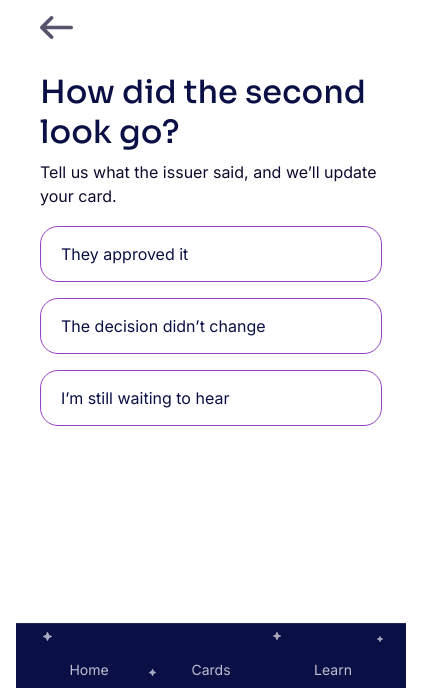
Test: SecondLook › explains a 409: the same card is already on Home, so this one can’t change
Click the button "They approved it" at (125, 254), box [40,226,382,282]
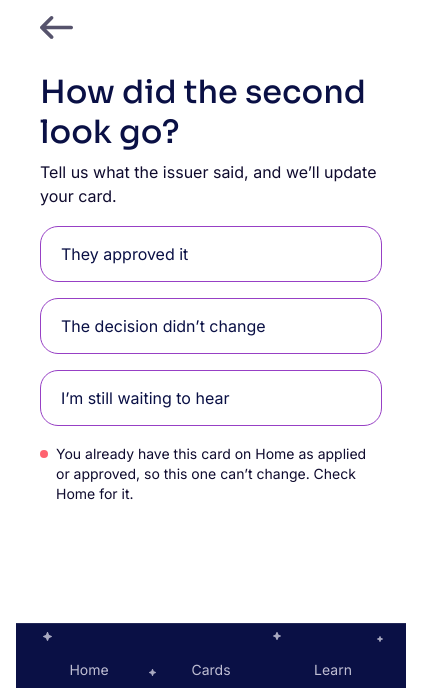
expect the heading "How did the second look go?" is shown: met, box [40,72,382,152]
expect the message shows "You already have this card on Home as applied or approved, so this one can’t change. Check Home for it.": met, box [56,445,366,502]
